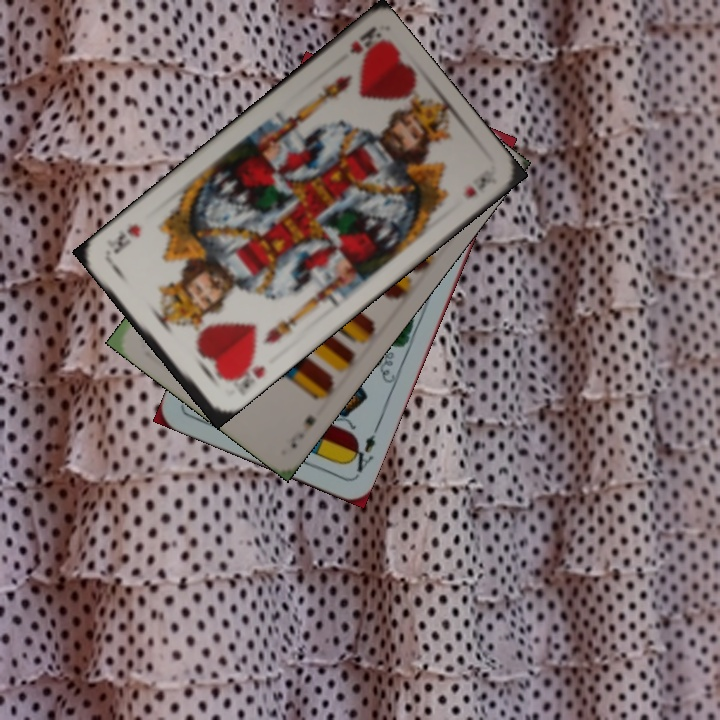E7: (286, 411, 319, 452)
EA: (344, 421, 382, 475)
HK: (222, 352, 268, 392), (345, 24, 383, 58)
